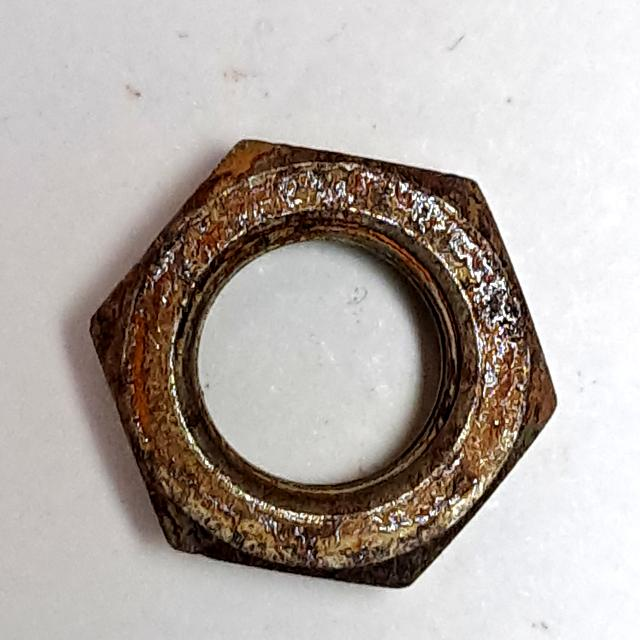Rust: (81, 130, 573, 604)
